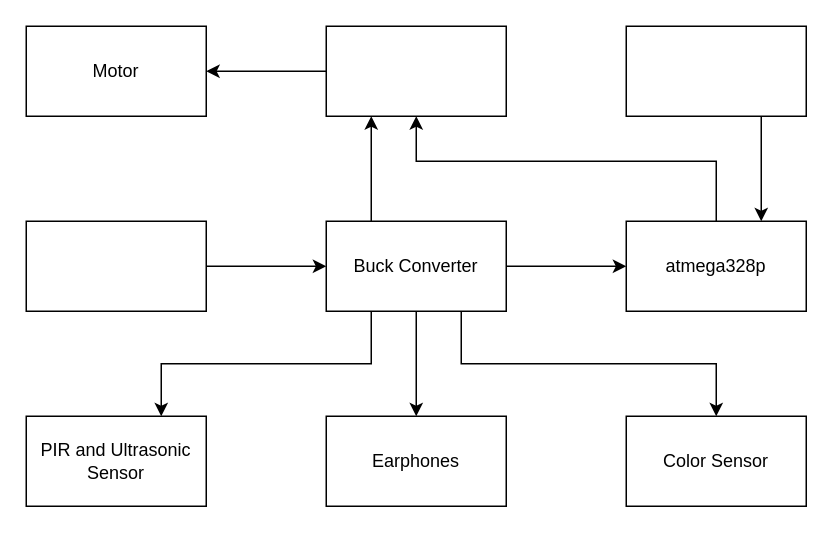
This 833x533 diagram has some shape labels left out. The box of each missing label's shape, as (x1, y1, x2, y2) in pixels:
Battery: (25, 220, 206, 311)
Braille Button: (625, 25, 806, 116)
Motor Control: (325, 25, 506, 116)
